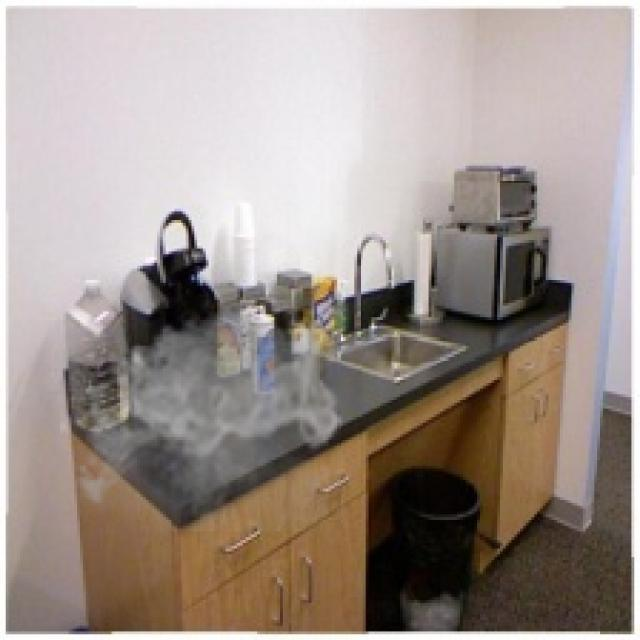Smoke: (68, 292, 346, 532)
